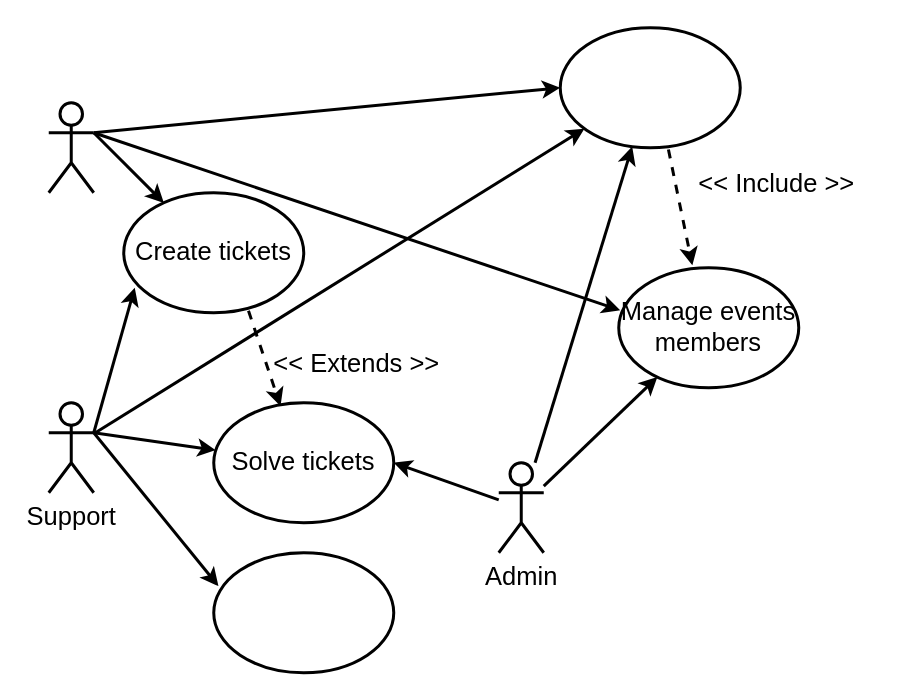
Some shapes in this 899 by 699 pixel diagram are drawn without their labels. Each missing label, with the centre of its shape:
Contact admin: the point at 303,612
Manage events: the point at 649,87
User: the point at 70,147
